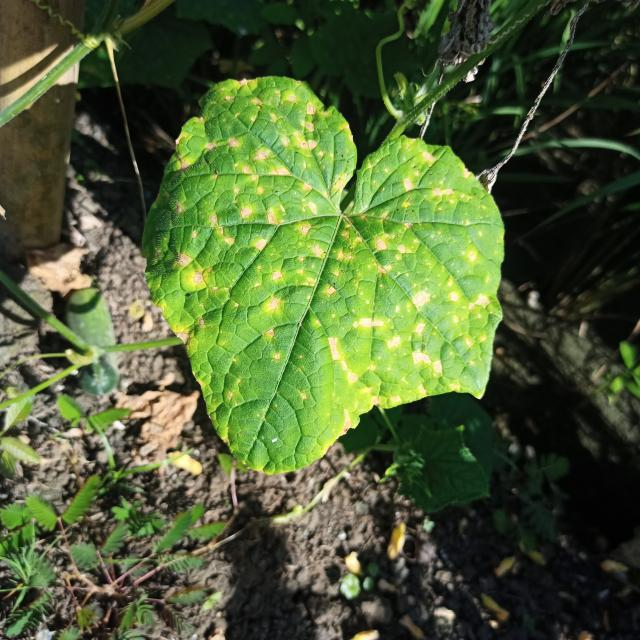disease_cucumber: (164, 77, 486, 434)
